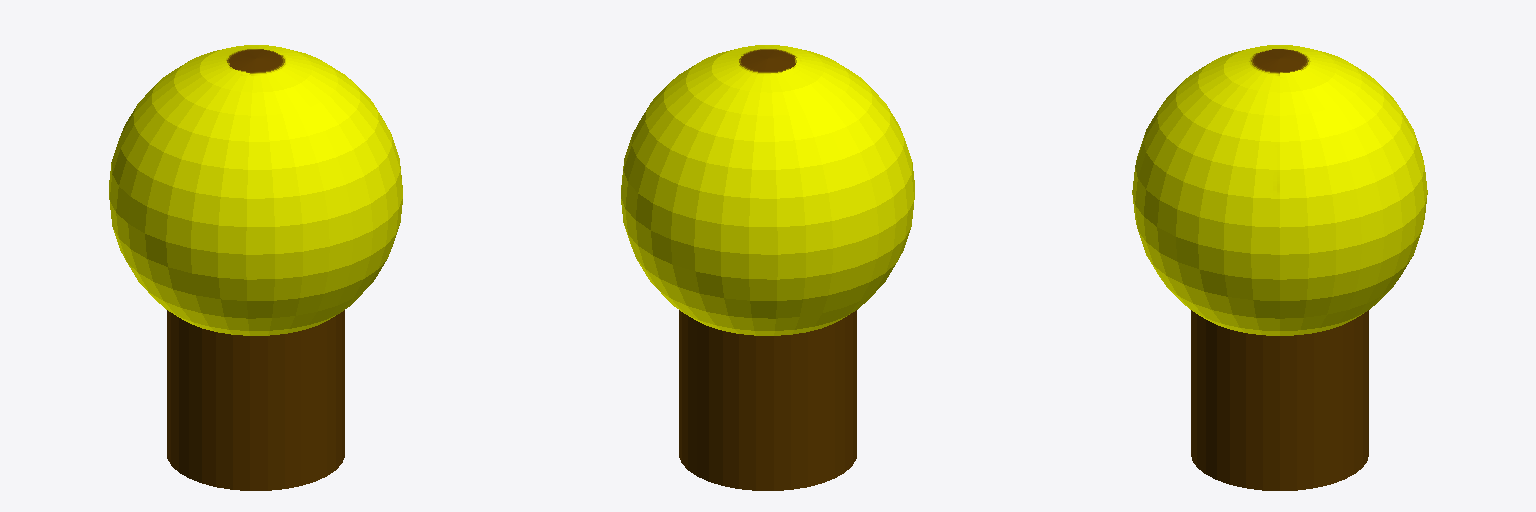
3 views of the same model, side by side, from view 1: azimuth 30°, elevation 25°; view 2: azimuth 150°, elevation 25°; view 3: azimuth 270°, elevation 25° (orthographic).
Visible parts, largest first — view 1: Circle; view 2: Circle; view 3: Circle.
Boxes of the visible parts, x1,y1,x2,y2 form: Circle: [109, 45, 402, 490]; Circle: [621, 45, 914, 490]; Circle: [1132, 45, 1427, 490].
Bounding box in the file's own units: 0.527 × 0.7773 × 0.527.
1 materials, 1 textured.